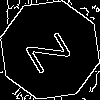Z: (25, 25, 80, 74)
